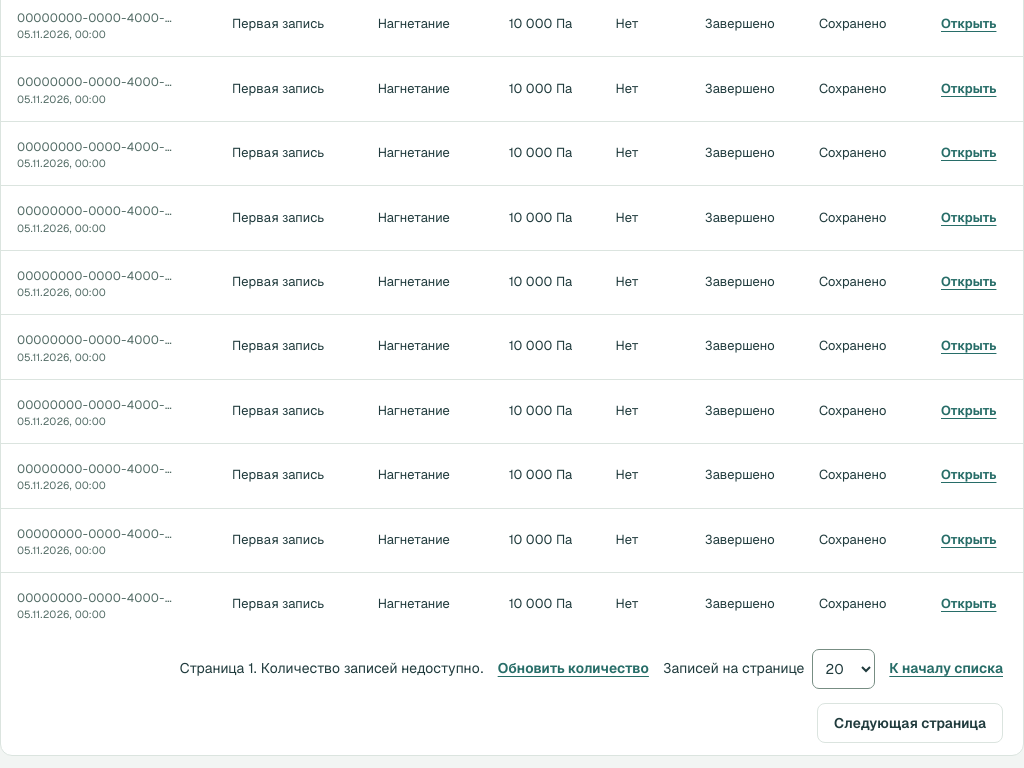
предлагает начать заново при неподтверждённом начальном числе (null)
(page scrolled)
Click the button "Следующая страница" at (910, 723), box left=817, top=702, right=1003, bottom=743
(page scrolled)
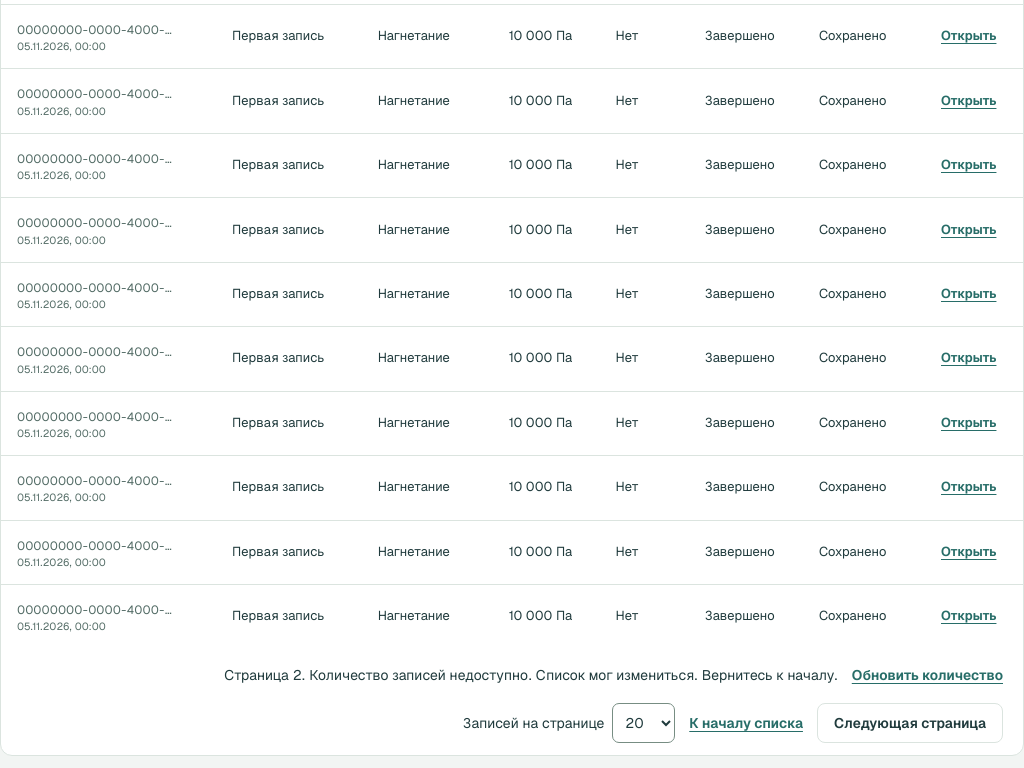
Result: the text "Список мог измениться. Вернитесь к началу" is shown at left=532, top=666, right=838, bottom=684
